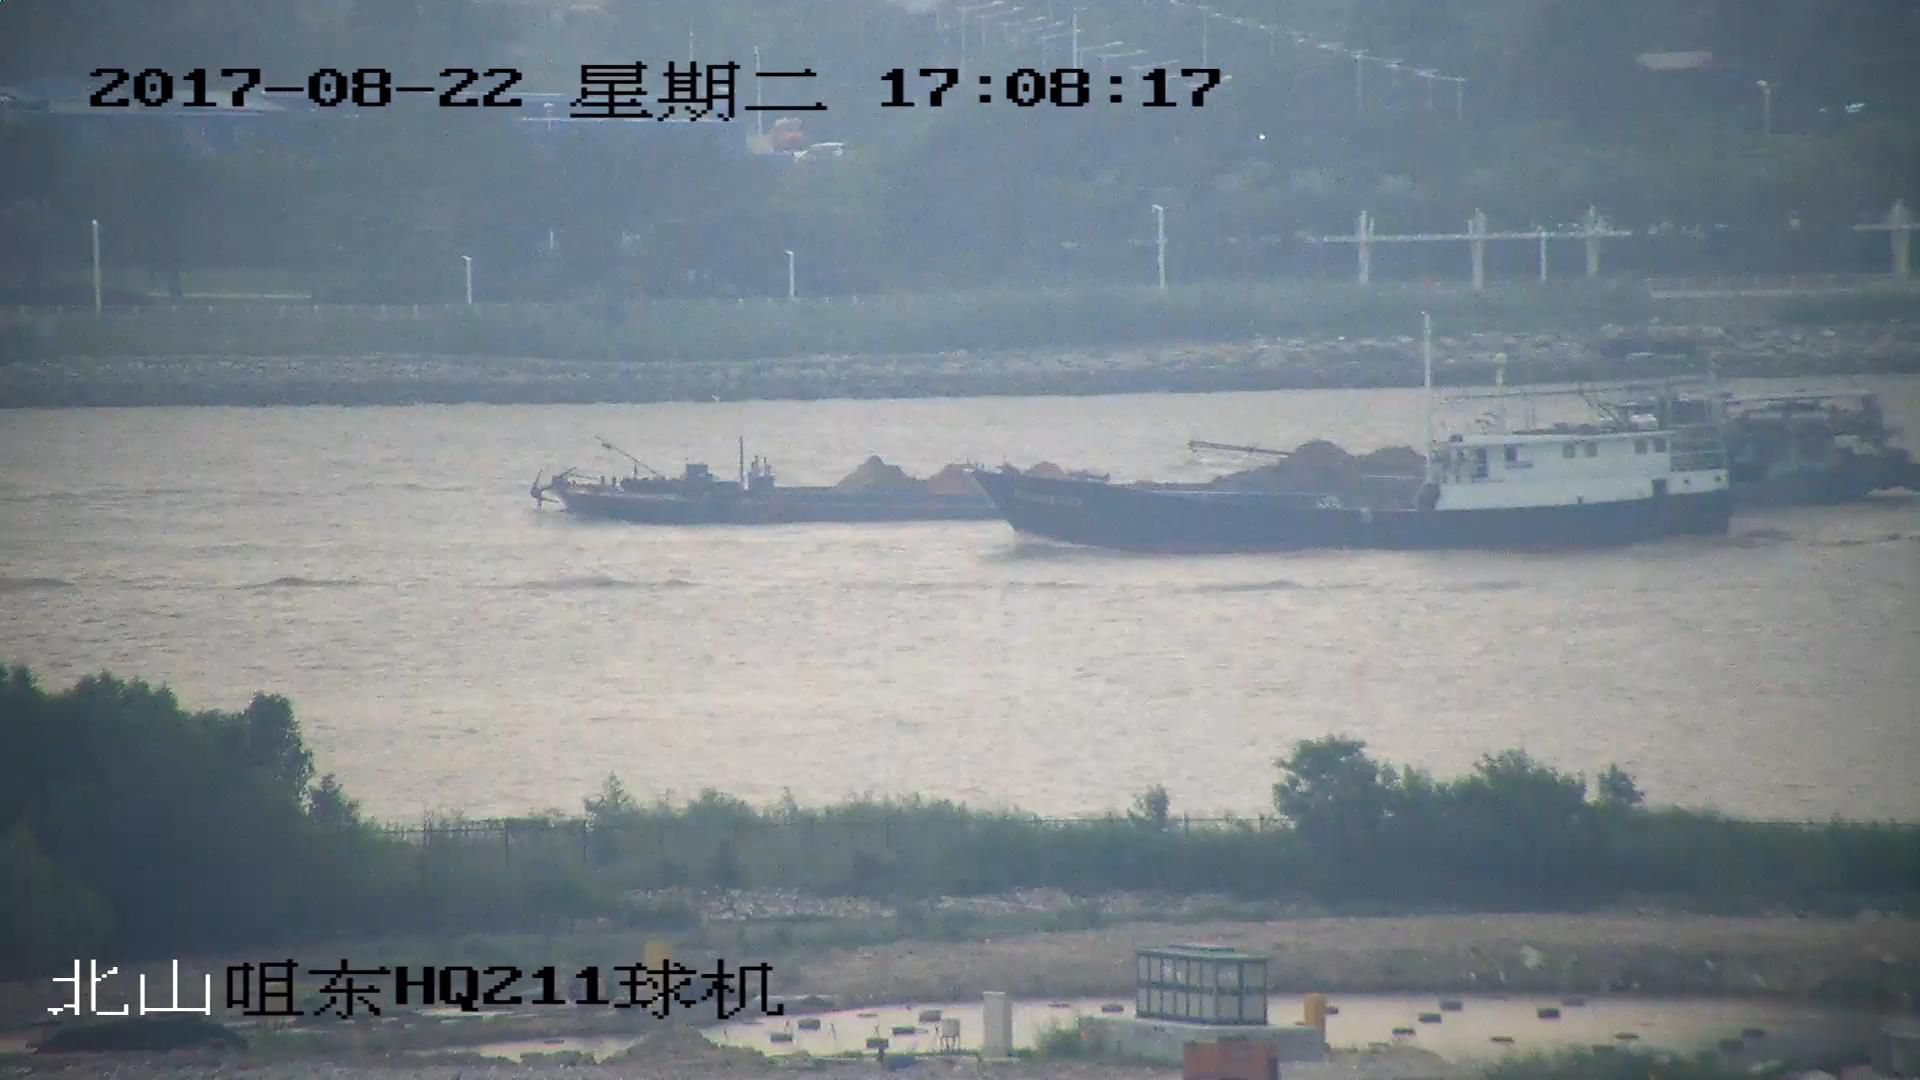Ship: (527, 386, 1920, 526), (981, 396, 1735, 555)
